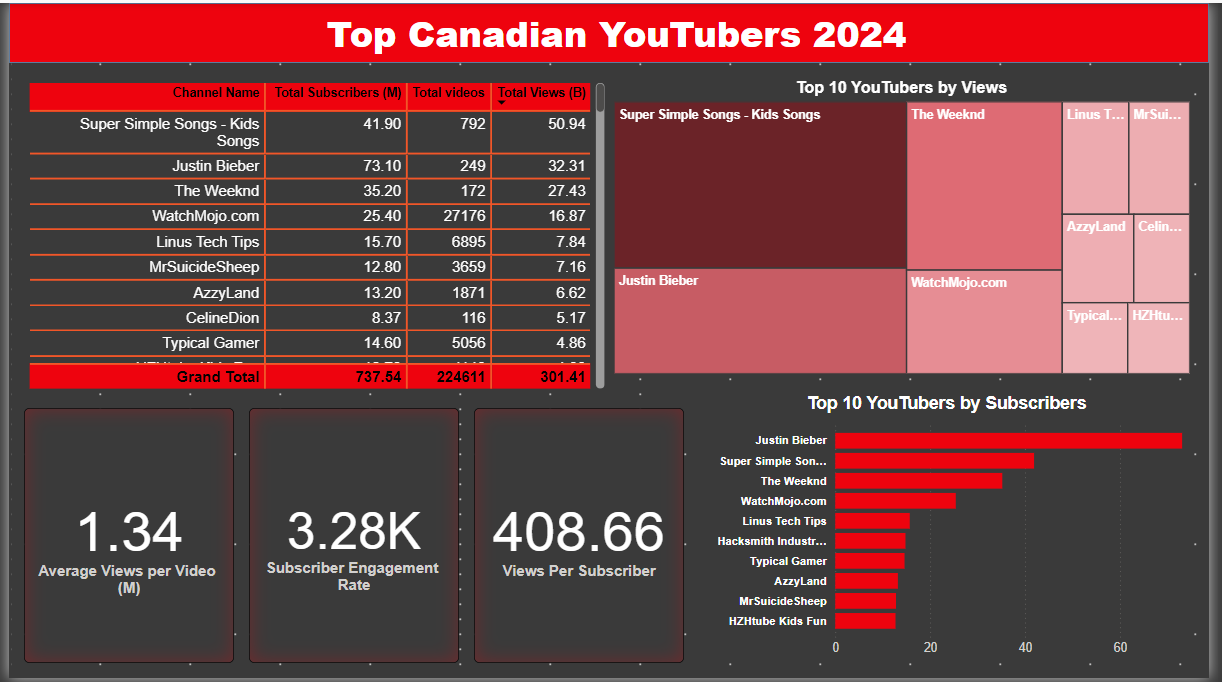

The dashboard page shown, as its layout file describes it:
{"tool":"powerbi","page":{"name":"Details","canvas":[1280,720],"ordinal":0},"visuals":[{"type":"shape","box":[0,0,1280,64],"z":0},{"type":"textbox","box":[288,0,720,64],"z":1000},{"type":"tableEx","fields":{"Values":["view_Canada_Youtubers_2024.channel_name","view_Canada_Youtubers_2024.Total Subscribers (M)","view_Canada_Youtubers_2024.Total videos","view_Canada_Youtubers_2024.Total Views (B)"]},"box":[16,80,624,336],"z":2000},{"type":"treemap","title":"Top 10 YouTubers by Views","fields":{"Group":["view_Canada_Youtubers_2024.channel_name"],"Values":["view_Canada_Youtubers_2024.Total Views (B)"]},"box":[640,80,624,320],"z":3000},{"type":"card","fields":{"Values":["view_Canada_Youtubers_2024.Average Views per Video (M)"]},"box":[16,432,224,272],"z":4000},{"type":"card","fields":{"Values":["view_Canada_Youtubers_2024.Views Per Subscriber"]},"box":[496,432,224,272],"z":5000},{"type":"card","fields":{"Values":["view_Canada_Youtubers_2024.Subscriber Engagement Rate"]},"box":[256,432,224,272],"z":6000},{"type":"clusteredBarChart","title":"Top 10 YouTubers by Subscribers","fields":{"Category":["view_Canada_Youtubers_2024.channel_name"],"Y":["view_Canada_Youtubers_2024.Total Subscribers (M)"]},"box":[736,416,528,288],"z":7000}]}

Visuals, with their boxes in screenshot pixels (x1, y1, x2, y2), scaled from the page's 1280x720 canvas onto the 1222x682 screenshot:
shape: 0, 0, 1221, 61
textbox: 275, 0, 962, 61
tableEx - view_Canada_Youtubers_2024.channel_name x view_Canada_Youtubers_2024.Total Subscribers (M): 15, 76, 611, 394
"Top 10 YouTubers by Views" treemap: 611, 76, 1207, 379
card - view_Canada_Youtubers_2024.Average Views per Video (M): 15, 409, 229, 667
card - view_Canada_Youtubers_2024.Views Per Subscriber: 474, 409, 687, 667
card - view_Canada_Youtubers_2024.Subscriber Engagement Rate: 244, 409, 458, 667
"Top 10 YouTubers by Subscribers" clusteredBarChart: 703, 394, 1207, 667
